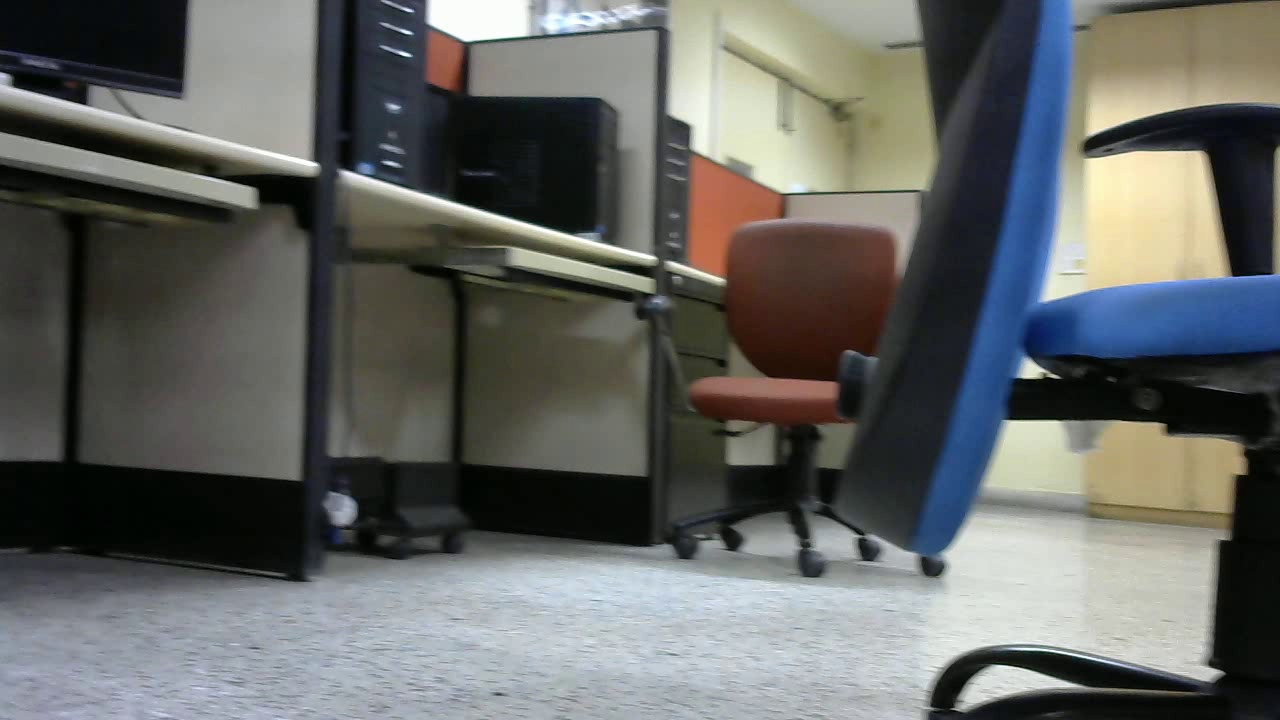chair: (3, 1, 409, 626)
